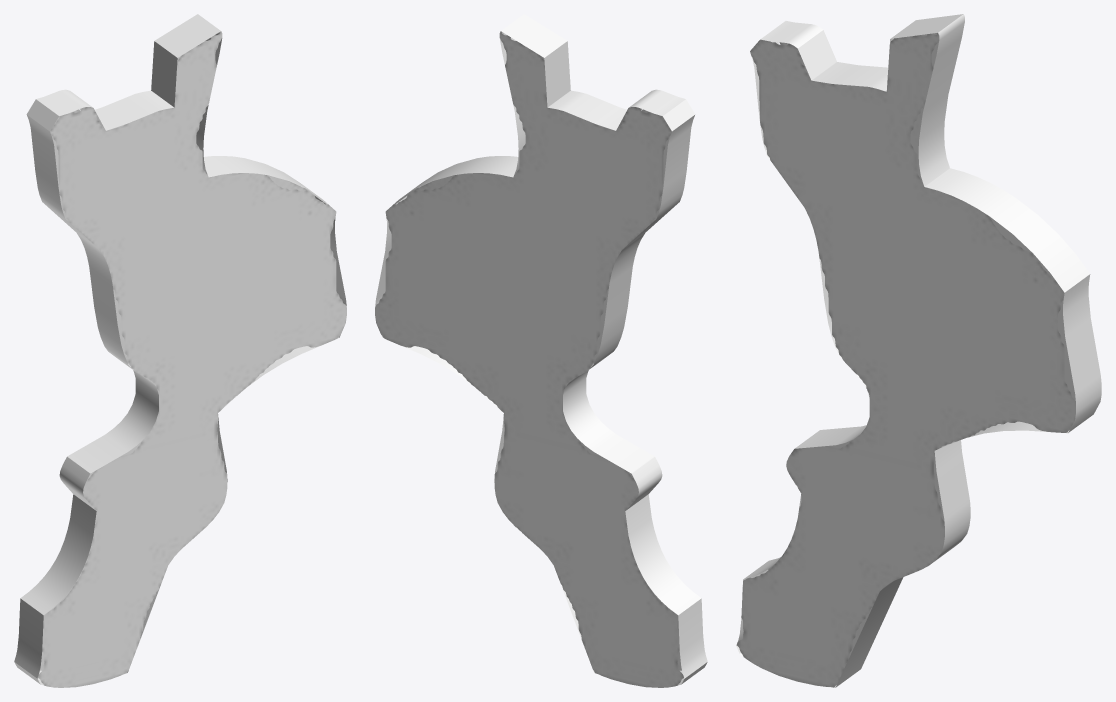
The model's file is Calabria.OBJ.
3 renders of one model, left to right at view 1: azimuth 30°, elevation 25°; view 2: azimuth 150°, elevation 25°; view 3: azimuth 330°, elevation 25°, orthographic. The views are drawn at different scales.
Bounding box in the file's own units: 99.35 × 191 × 13.
3 materials, 3 textured.
